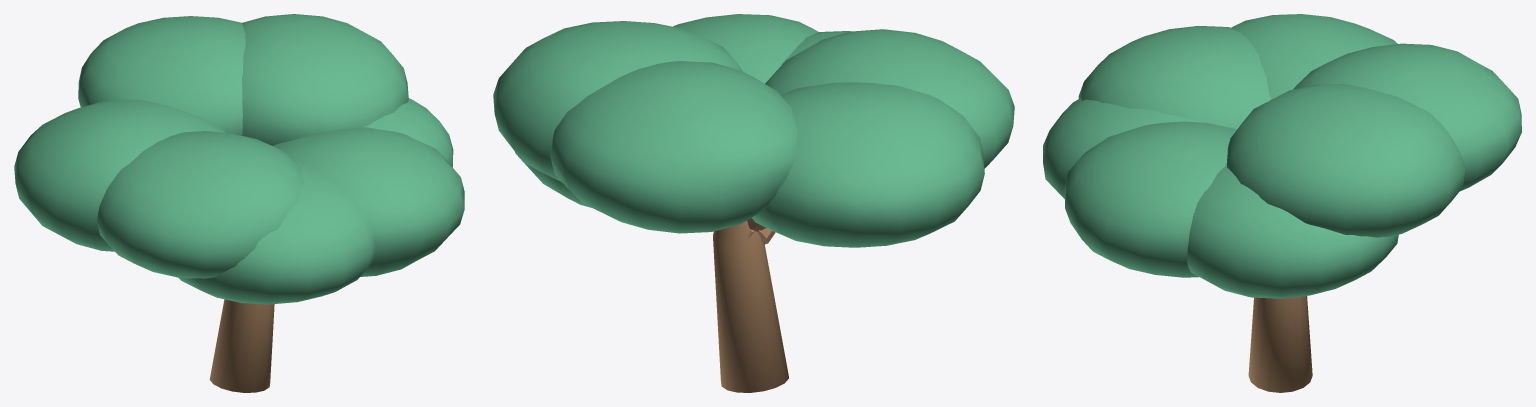
File: buttonwood_shrub_tropical_island_and_palm_trees_6815.glb
3 views of the same model, side by side, from view 1: azimuth 30°, elevation 25°; view 2: azimuth 150°, elevation 25°; view 3: azimuth 270°, elevation 25° (orthographic). The views are drawn at different scales.
Visible parts, largest first — view 1: buttonwood; view 2: buttonwood; view 3: buttonwood.
Boxes of the visible parts, <box> form: buttonwood: <box>14,14,464,392</box>; buttonwood: <box>493,14,1014,392</box>; buttonwood: <box>1043,14,1521,392</box>.
Bounding box in the file's own units: 2.15 × 1.58 × 2.13.
